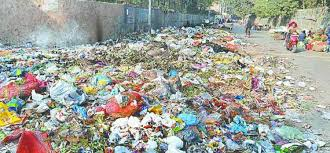garbage: (2, 47, 281, 153), (132, 32, 240, 153)
